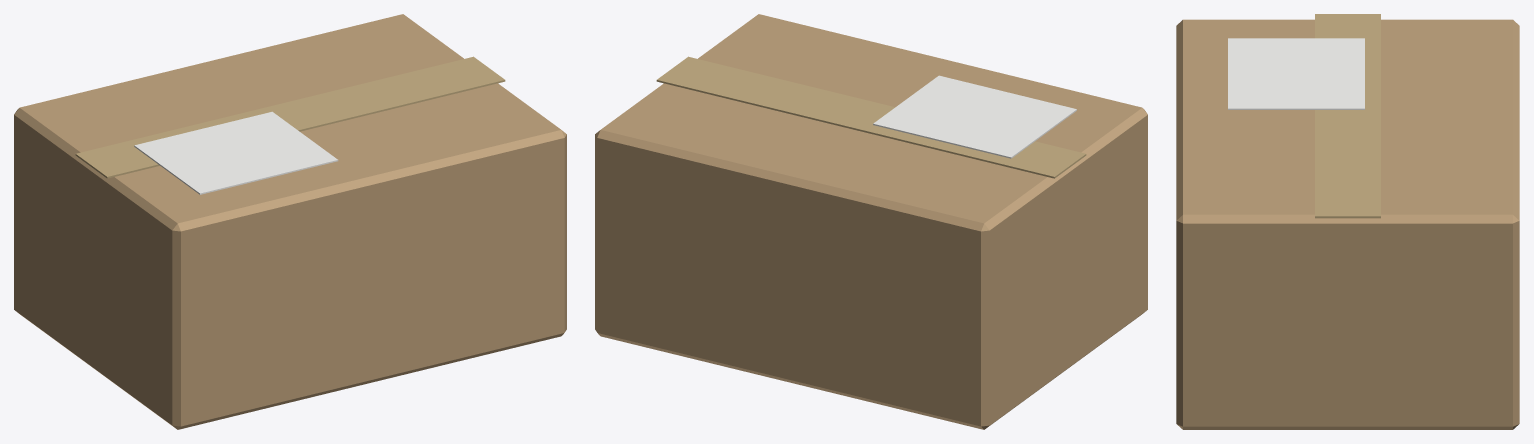
Rendered from tsorter_parcel_box_m.fbx.
3 renders of one model, left to right at view 1: azimuth 30°, elevation 25°; view 2: azimuth 150°, elevation 25°; view 3: azimuth 270°, elevation 25°, orthographic. The views are drawn at different scales.
Visible parts, largest first — view 1: Parcel_box_m; view 2: Parcel_box_m; view 3: Parcel_box_m.
Part boxes in pixels (<box>): Parcel_box_m: <box>14,14,566,429</box>; Parcel_box_m: <box>595,14,1147,429</box>; Parcel_box_m: <box>1176,14,1519,429</box>.
Bounding box in the file's own units: 0.363 × 0.183 × 0.26.
